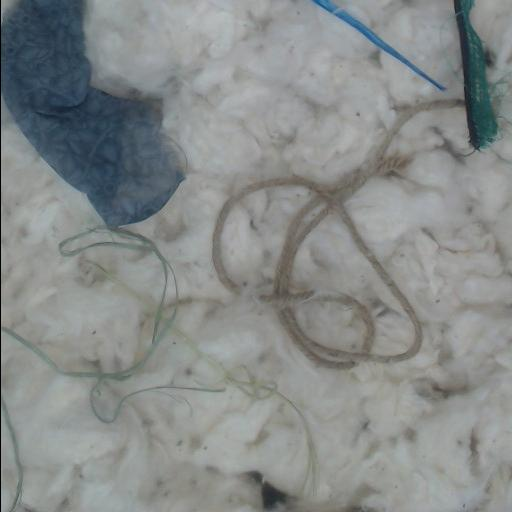cloth: (1, 0, 183, 226), (499, 471, 504, 480)
cotton: (85, 0, 512, 511), (1, 225, 318, 494), (1, 334, 306, 511), (3, 106, 162, 371), (472, 0, 512, 121)
jute: (213, 100, 458, 367)
thread: (1, 225, 317, 493), (310, 0, 446, 89), (454, 0, 496, 149)
